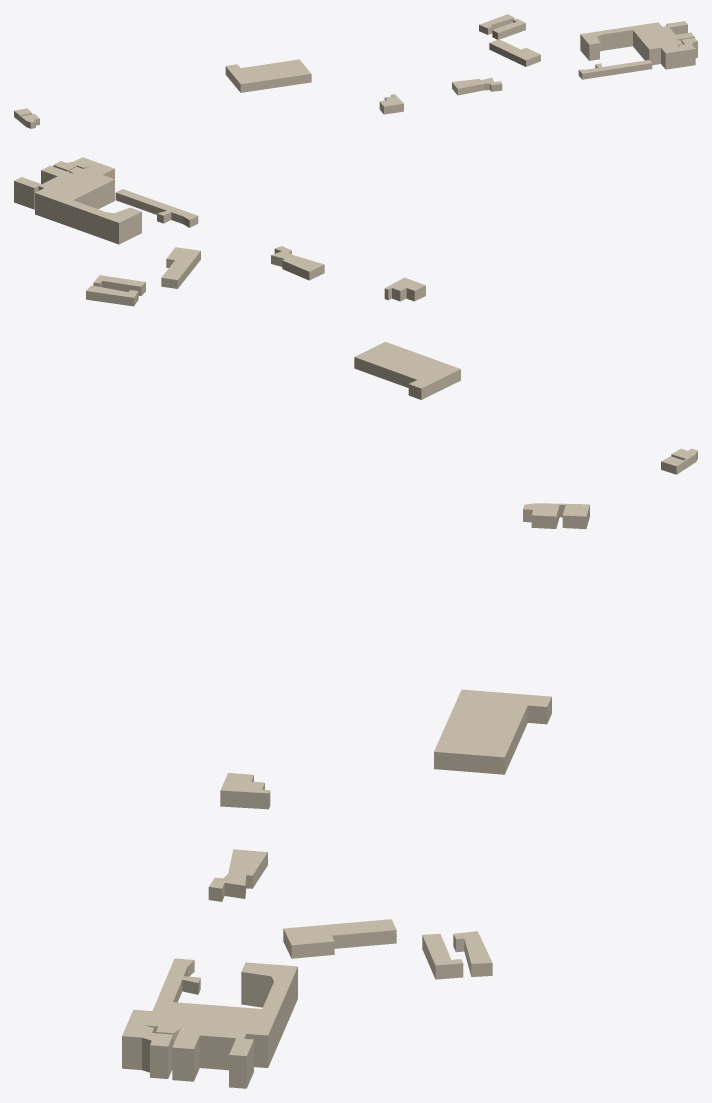
3 renders of one model, top to bottom at view 1: azimuth 30°, elevation 25°; view 2: azimuth 150°, elevation 25°; view 3: azimuth 270°, elevation 25°, orthographic. The views are drawn at different scales.
Size of the model in its own units: 685 by 18.23 by 237.
